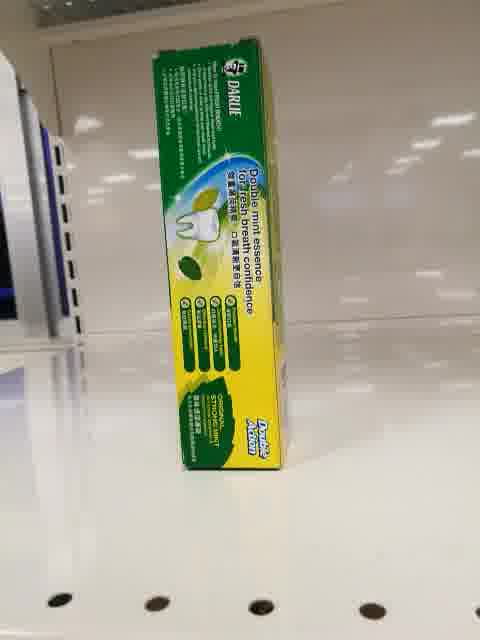toothpaste: (151, 36, 293, 470)
